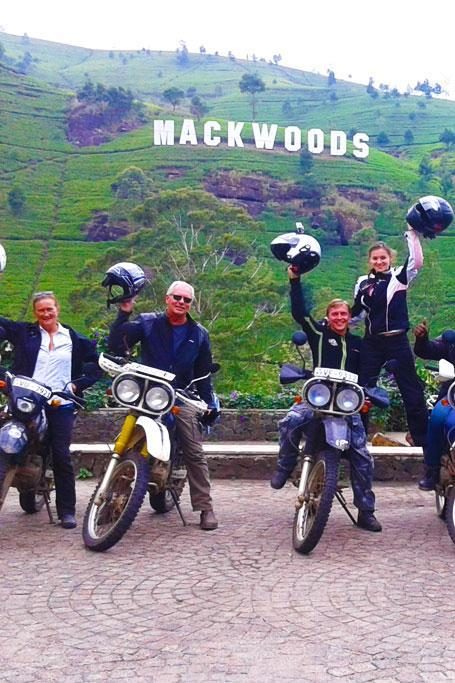motorbike: (81, 343, 222, 551), (277, 329, 394, 555), (1, 339, 87, 519)
